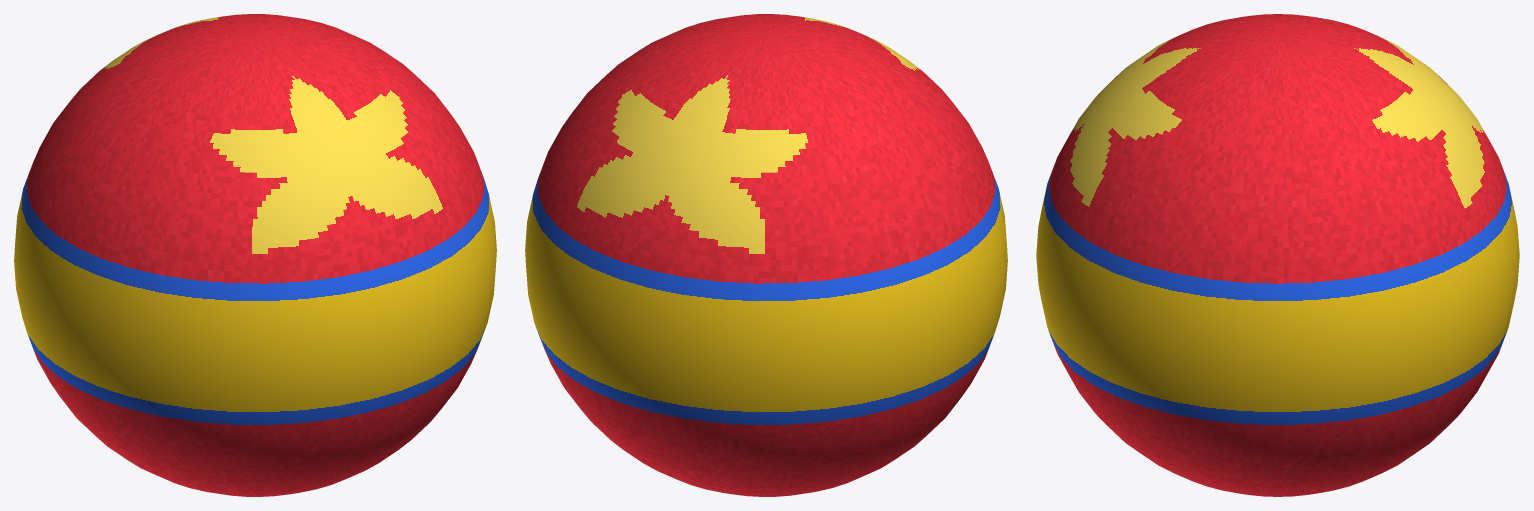
Rendered from p_bigball.glb.
3 renders of one model, left to right at view 1: azimuth 30°, elevation 25°; view 2: azimuth 150°, elevation 25°; view 3: azimuth 270°, elevation 25°, orthographic.
Visible parts, largest first — view 1: p_bigball_lod0; view 2: p_bigball_lod0; view 3: p_bigball_lod0.
Part boxes in pixels (x1,y1,x2,y2): p_bigball_lod0: (14,14,496,496); p_bigball_lod0: (525,14,1007,496); p_bigball_lod0: (1036,14,1519,496).
Size of what is drawn, in the model's own units: 120 by 118 by 120.
Materials: 1 (1 with a texture image).
